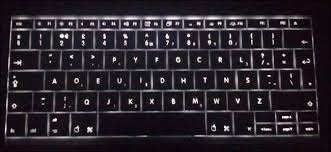keyboard: (6, 12, 322, 143)
